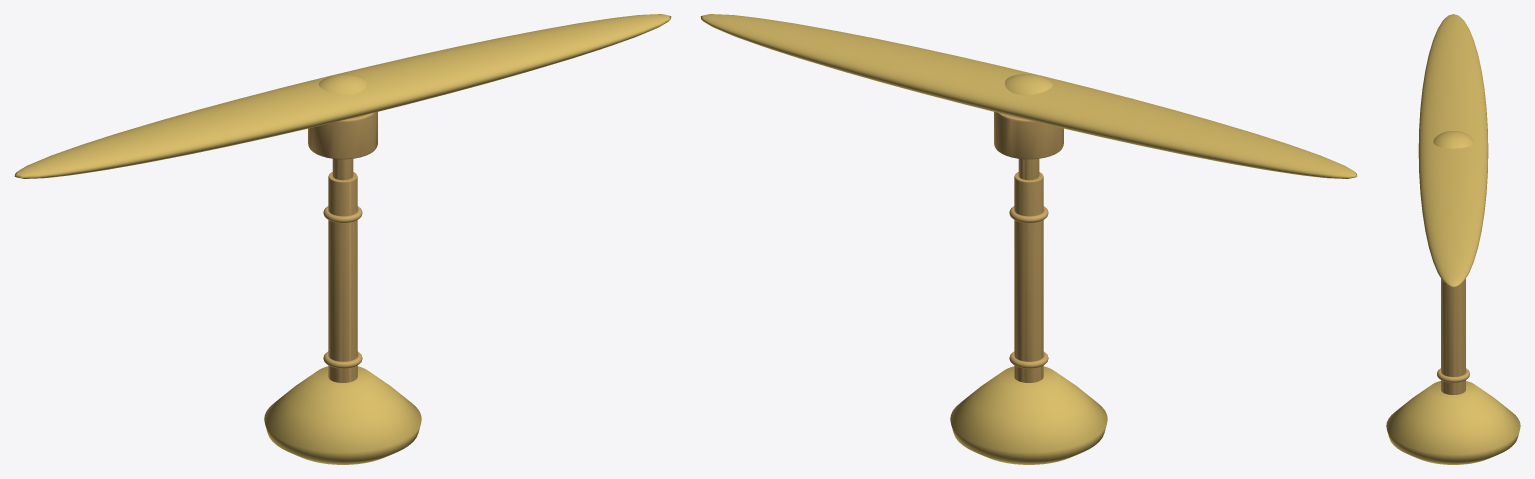
Rendered from bamboo.glb.
3 renders of one model, left to right at view 1: azimuth 30°, elevation 25°; view 2: azimuth 150°, elevation 25°; view 3: azimuth 270°, elevation 25°, orthographic. The views are drawn at different scales.
Visible parts, largest first — view 1: Bamboo_Blade_Native, Bamboo_HeadCup, Bamboo_Shaft_Native, Bamboo_ShaftCap, Bamboo_HubCap; view 2: Bamboo_Blade_Native, Bamboo_HeadCup, Bamboo_Shaft_Native, Bamboo_ShaftCap, Bamboo_HubCap; view 3: Bamboo_Blade_Native, Bamboo_HeadCup, Bamboo_Shaft_Native, Bamboo_HubCap, Bamboo_SpindleCollar.
Boxes of the visible parts, x1=… form: Bamboo_Blade_Native: x1=14, y1=14, x2=671, y2=178; Bamboo_HeadCup: x1=264, y1=366, x2=421, y2=464; Bamboo_Shaft_Native: x1=328, y1=172, x2=357, y2=382; Bamboo_ShaftCap: x1=308, y1=112, x2=377, y2=159; Bamboo_HubCap: x1=319, y1=74, x2=367, y2=95; Bamboo_Blade_Native: x1=700, y1=14, x2=1357, y2=178; Bamboo_HeadCup: x1=950, y1=366, x2=1107, y2=464; Bamboo_Shaft_Native: x1=1014, y1=172, x2=1043, y2=382; Bamboo_ShaftCap: x1=994, y1=112, x2=1063, y2=159; Bamboo_HubCap: x1=1004, y1=74, x2=1052, y2=95; Bamboo_Blade_Native: x1=1418, y1=14, x2=1488, y2=287; Bamboo_HeadCup: x1=1386, y1=381, x2=1520, y2=464; Bamboo_Shaft_Native: x1=1441, y1=279, x2=1465, y2=394; Bamboo_HubCap: x1=1433, y1=131, x2=1473, y2=148; Bamboo_SpindleCollar: x1=1437, y1=368, x2=1469, y2=382.
Size of the model in its own units: 0.26 by 0.137 by 0.054.
